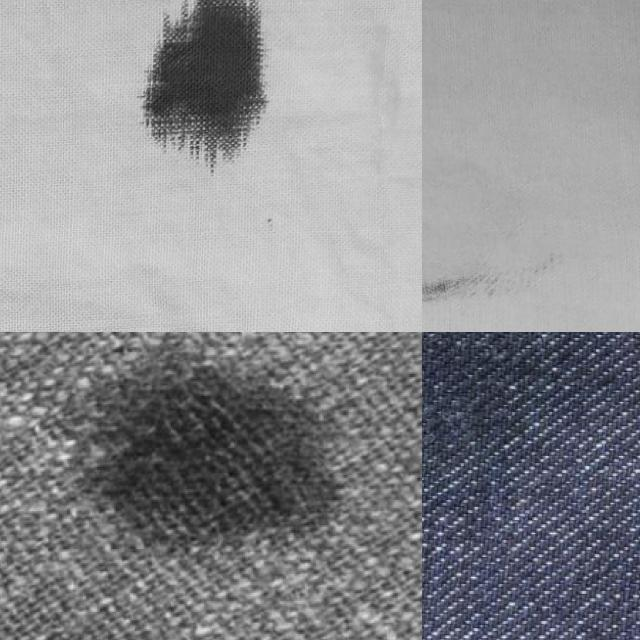Thread_other: (0, 338, 411, 614), (133, 0, 335, 189), (422, 132, 568, 327)
